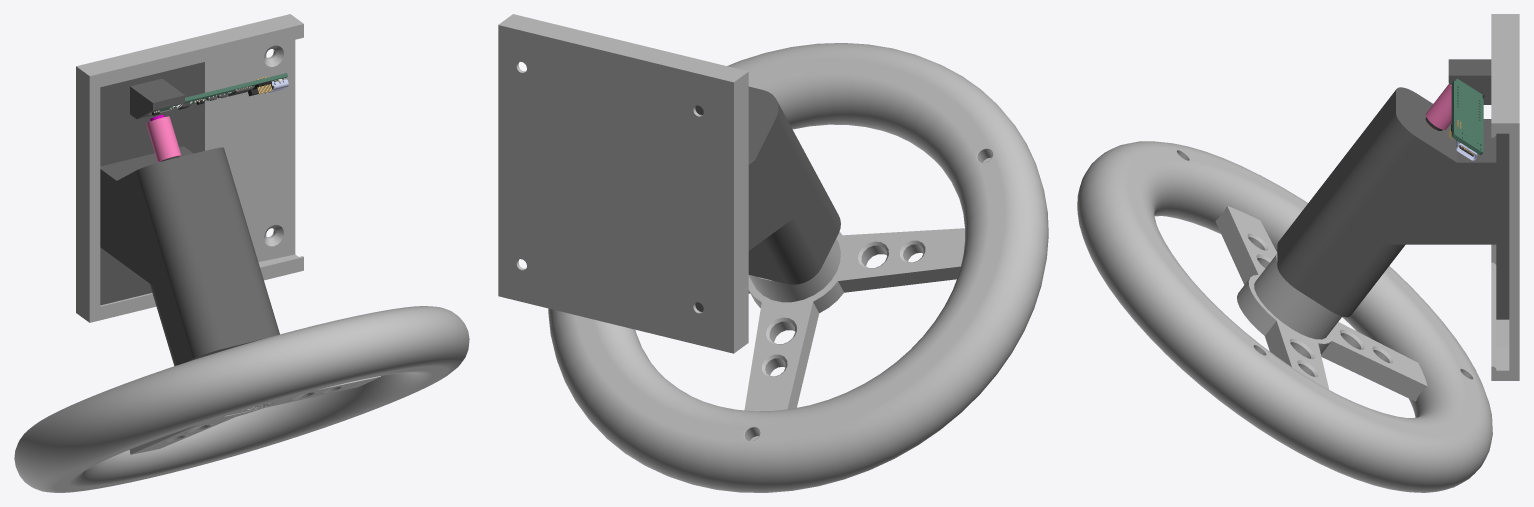
Rendered from Steering_wheel_demo_v_1.glb.
The picture shows the model from 3 angles, left to right: view 1: azimuth 30°, elevation 25°; view 2: azimuth 150°, elevation 25°; view 3: azimuth 270°, elevation 25°; orthographic projection. The views are drawn at different scales.
Visible parts, largest first — view 1: Solid1 (×6); view 2: Solid1 (×4); view 3: Solid1 (×6).
Boxes of the visible parts, x1=… form: Solid1 (×6): x1=14, y1=14, x2=469, y2=492; Solid1 (×4): x1=498, y1=14, x2=1048, y2=492; Solid1 (×6): x1=1077, y1=14, x2=1519, y2=492.
Bounding box in the file's own units: 0.1909 × 0.1778 × 0.1712.
